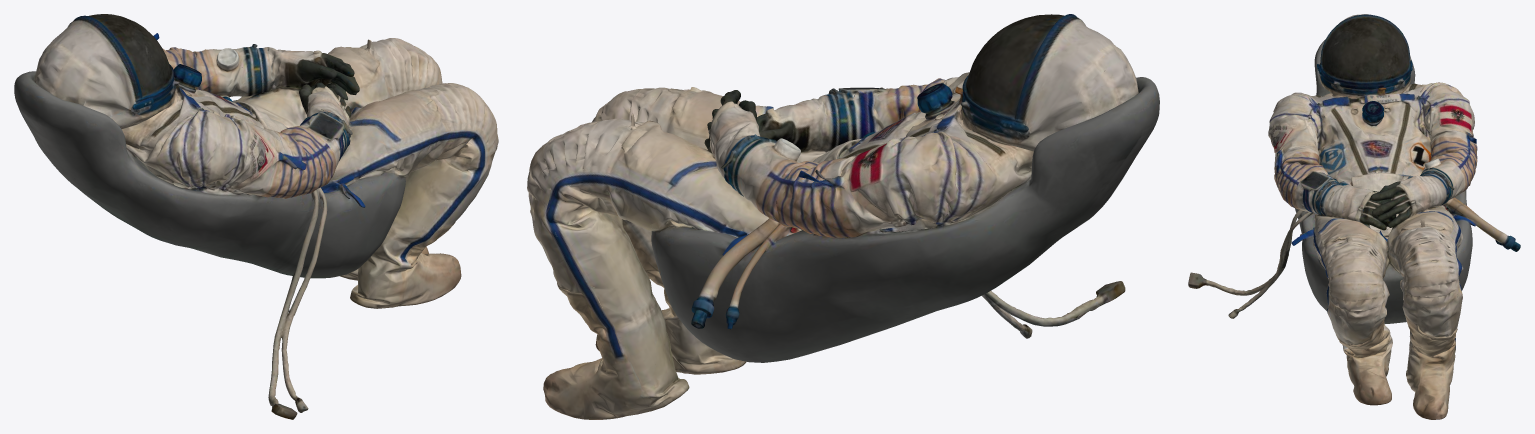
The model's file is hero_era_history_the_modern_era_d74e8a.glb.
3 views of the same model, side by side, from view 1: azimuth 30°, elevation 25°; view 2: azimuth 150°, elevation 25°; view 3: azimuth 270°, elevation 25° (orthographic). The views are drawn at different scales.
Parts seen in each view (by area): view 1: Object_2, Object_3; view 2: Object_3, Object_2; view 3: Object_3, Object_2.
Boxes of the visible parts, x1,y1,x2,y2 form: Object_2: (26, 29, 498, 419); Object_3: (14, 14, 492, 280); Object_3: (527, 14, 1159, 419); Object_2: (527, 22, 1155, 407); Object_3: (1270, 14, 1474, 419); Object_2: (1188, 14, 1520, 405).
Bounding box in the file's own units: 1.68 × 1.28 × 1.42.
1 material, 1 textured.
